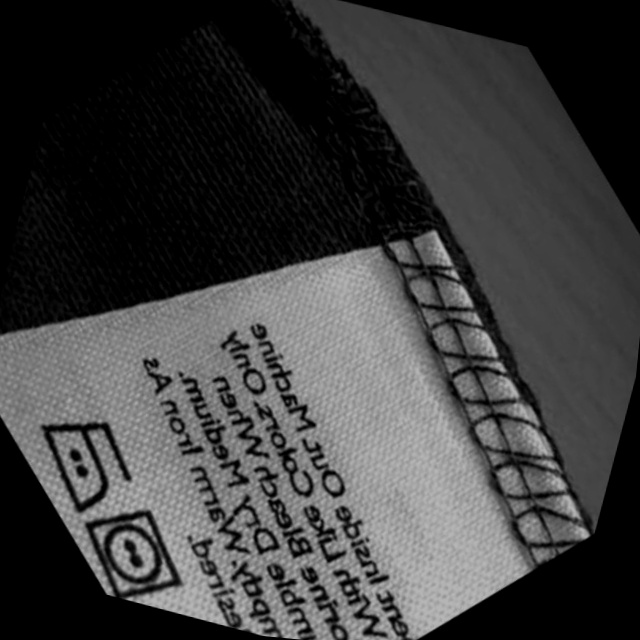iron_medium: (15, 402, 145, 522)
tumble_dry_medium: (65, 495, 197, 611)
